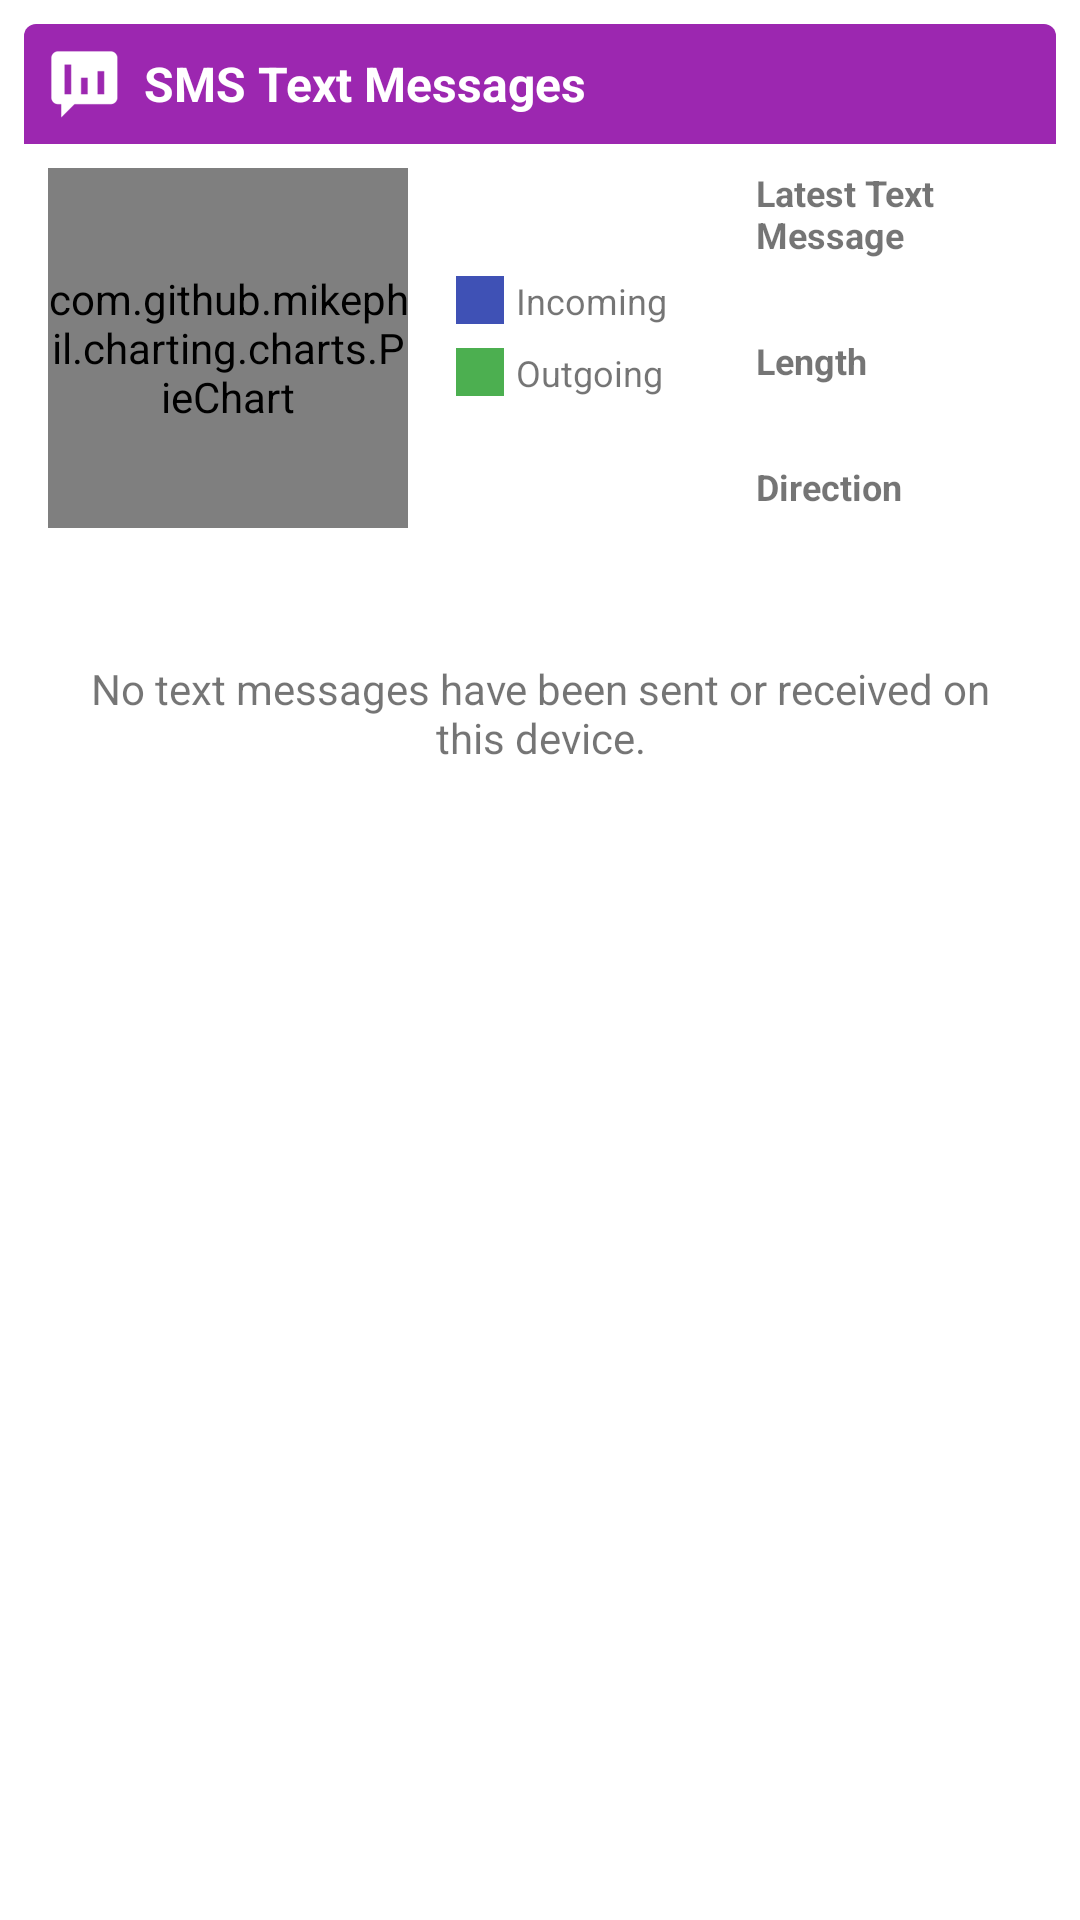

Icons on this 1080w x 1920h Android screen, each with its box as detection(x1, y1, x2, y2):
pdk text messages: detection(51, 51, 118, 117)
